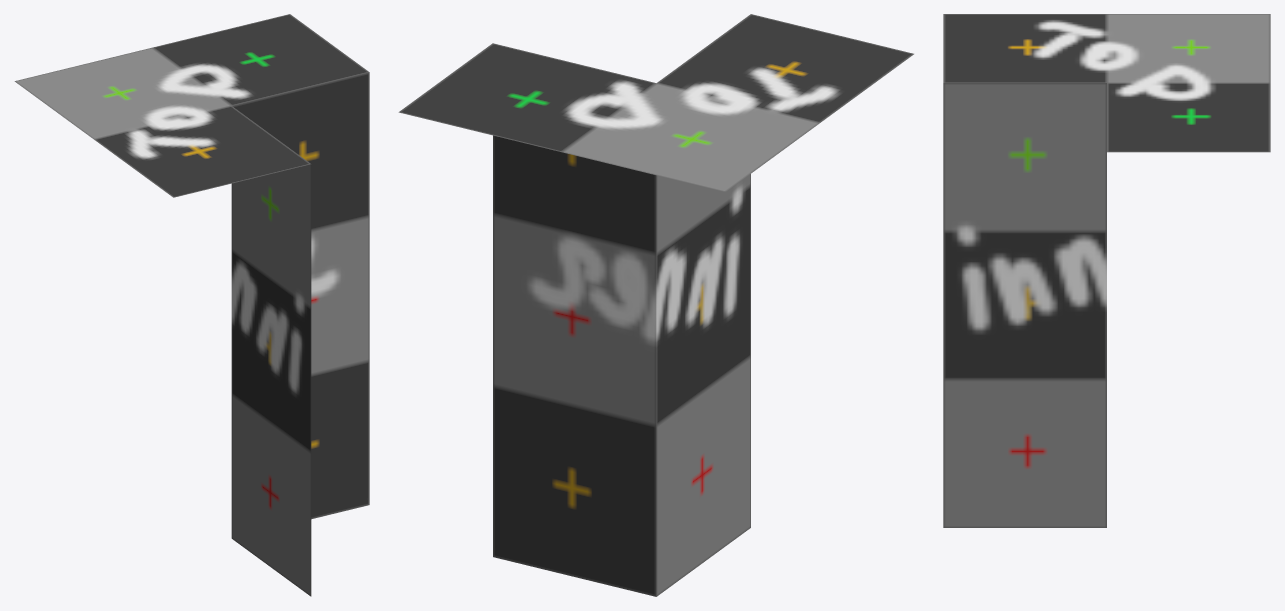
Rendered from Wall_1x2x3_Inner_Test.fbx.
3 views of the same model, side by side, from view 1: azimuth 30°, elevation 25°; view 2: azimuth 150°, elevation 25°; view 3: azimuth 270°, elevation 25° (orthographic). The views are drawn at different scales.
Visible parts, largest first — view 1: Wall_1x2x3_Inner_Test; view 2: Wall_1x2x3_Inner_Test; view 3: Wall_1x2x3_Inner_Test.
Part boxes in pixels (x1,y1,x2,y2): Wall_1x2x3_Inner_Test: [14, 14, 369, 596]; Wall_1x2x3_Inner_Test: [398, 14, 913, 596]; Wall_1x2x3_Inner_Test: [943, 14, 1270, 527].
Size of the model in its own units: 2 by 2 by 3.
Materials: 1 (1 with a texture image).
